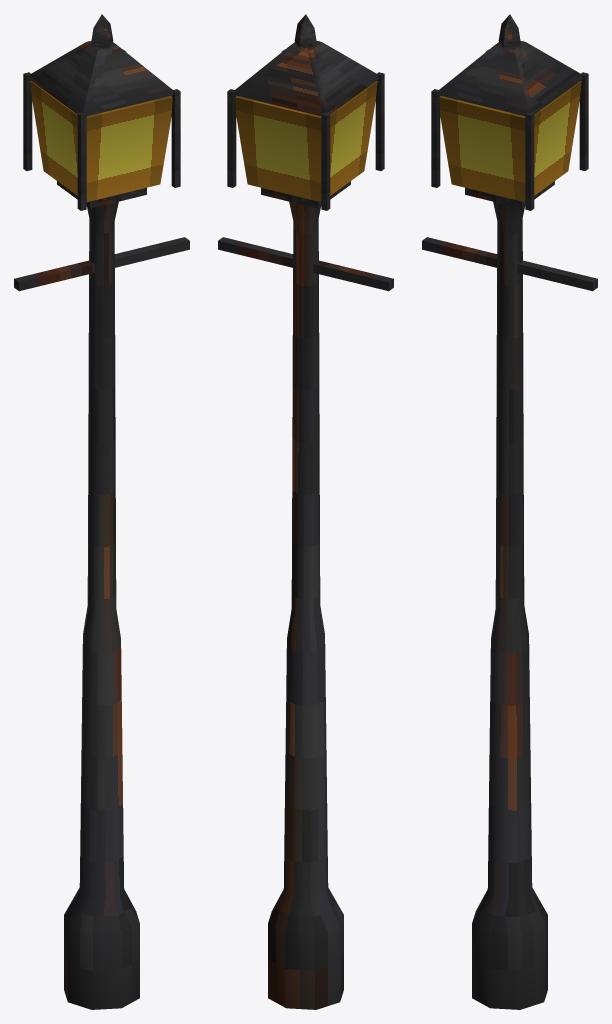
Rendered from lamp_post.glb.
The picture shows the model from 3 angles, left to right: view 1: azimuth 30°, elevation 25°; view 2: azimuth 150°, elevation 25°; view 3: azimuth 330°, elevation 25°; orthographic projection.
Visible parts, largest first — view 1: lamp_post; view 2: lamp_post; view 3: lamp_post.
Part boxes in pixels (box(x1,y1,x2,y2)): lamp_post: box(14, 14, 189, 1009); lamp_post: box(218, 14, 393, 1009); lamp_post: box(422, 14, 597, 1009).
Size of the model in its own units: 0.6 by 3.29 by 0.35.
1 material, 1 textured.
